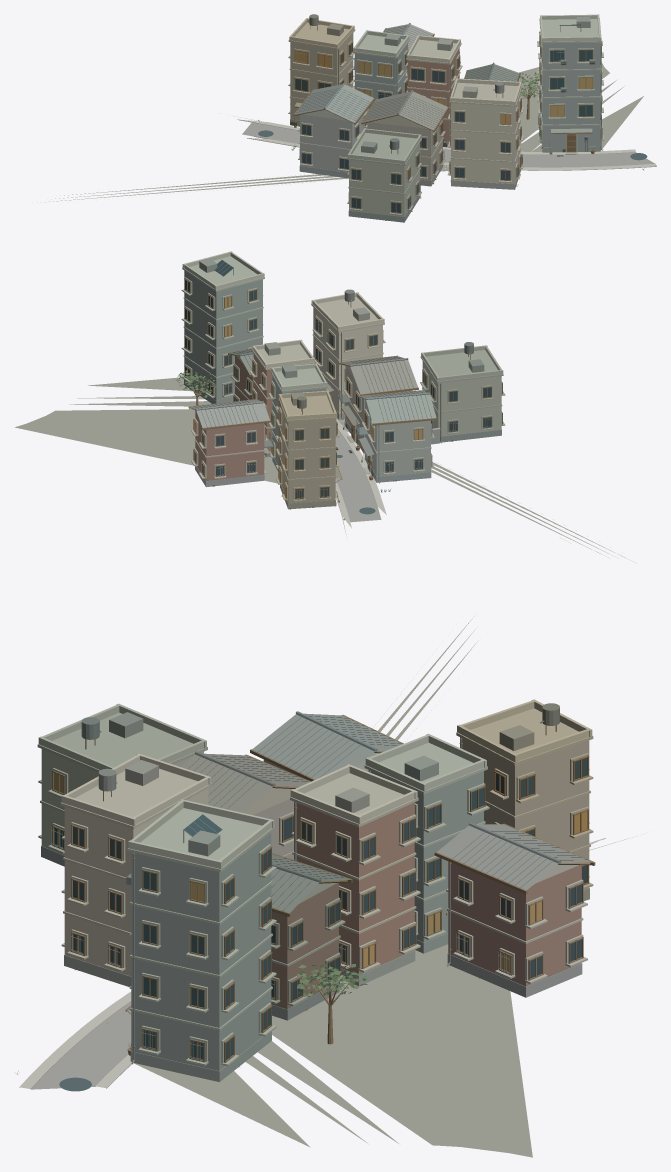
File: street_3_6.glb
3 views of the same model, one above another, from view 1: azimuth 30°, elevation 25°; view 2: azimuth 150°, elevation 25°; view 3: azimuth 270°, elevation 25° (orthographic). The views are drawn at different scales.
Parts seen in each view (by area): view 1: trim.033, plaster.033, graybrick.032, roof_metal.033, concrete.028, wood.033, ground.021, metal.033, glass.033, road.037, brick.013, paving.015 (+1 smaller); view 2: trim.033, plaster.033, ground.021, graybrick.032, roof_metal.033, concrete.028, wood.033, brick.013, glass.033, metal.033, road.037, paving.015 (+2 smaller); view 3: ground.021, trim.033, graybrick.032, plaster.033, brick.013, roof_metal.033, wood.033, glass.033, concrete.028, metal.033, road.037, paving.015 (+3 smaller).
Boxes of the visible parts, x1,y1,x2,y2 form: trim.033: [288, 18, 603, 215]; plaster.033: [289, 14, 601, 216]; graybrick.032: [290, 42, 600, 222]; roof_metal.033: [294, 16, 592, 153]; concrete.028: [290, 33, 442, 180]; wood.033: [293, 28, 601, 213]; ground.021: [41, 62, 643, 202]; metal.033: [294, 14, 603, 208]; glass.033: [295, 24, 592, 212]; road.037: [242, 122, 654, 167]; brick.013: [408, 48, 459, 141]; paving.015: [237, 119, 656, 170]; trim.033: [181, 256, 505, 501]; plaster.033: [182, 251, 503, 436]; ground.021: [14, 377, 636, 563]; graybrick.032: [184, 270, 501, 509]; roof_metal.033: [190, 258, 484, 478]; concrete.028: [280, 366, 430, 503]; wood.033: [184, 278, 502, 501]; brick.013: [195, 354, 272, 480]; glass.033: [185, 260, 491, 498]; metal.033: [194, 260, 492, 499]; road.037: [335, 429, 381, 522]; paving.015: [335, 418, 386, 528]; ground.021: [133, 614, 636, 1157]; trim.033: [37, 708, 593, 1066]; graybrick.032: [41, 770, 589, 1081]; plaster.033: [38, 699, 592, 976]; brick.013: [271, 801, 581, 1009]; roof_metal.033: [109, 712, 592, 1010]; wood.033: [52, 715, 595, 1062]; glass.033: [54, 757, 587, 1061]; concrete.028: [253, 737, 589, 889]; metal.033: [51, 703, 587, 1064]; road.037: [31, 1002, 131, 1089]; paving.015: [19, 838, 605, 1088].
Size of the model in its own units: 70.9 by 13.49 by 34.43.
